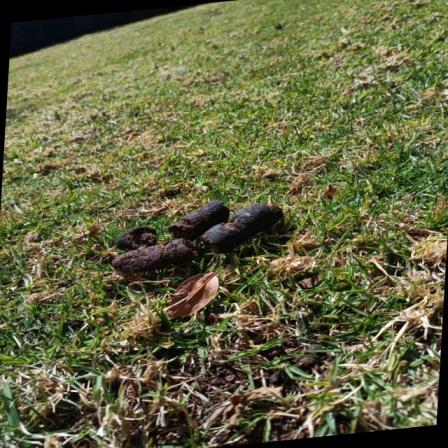dog-poop: (115, 196, 286, 270)
